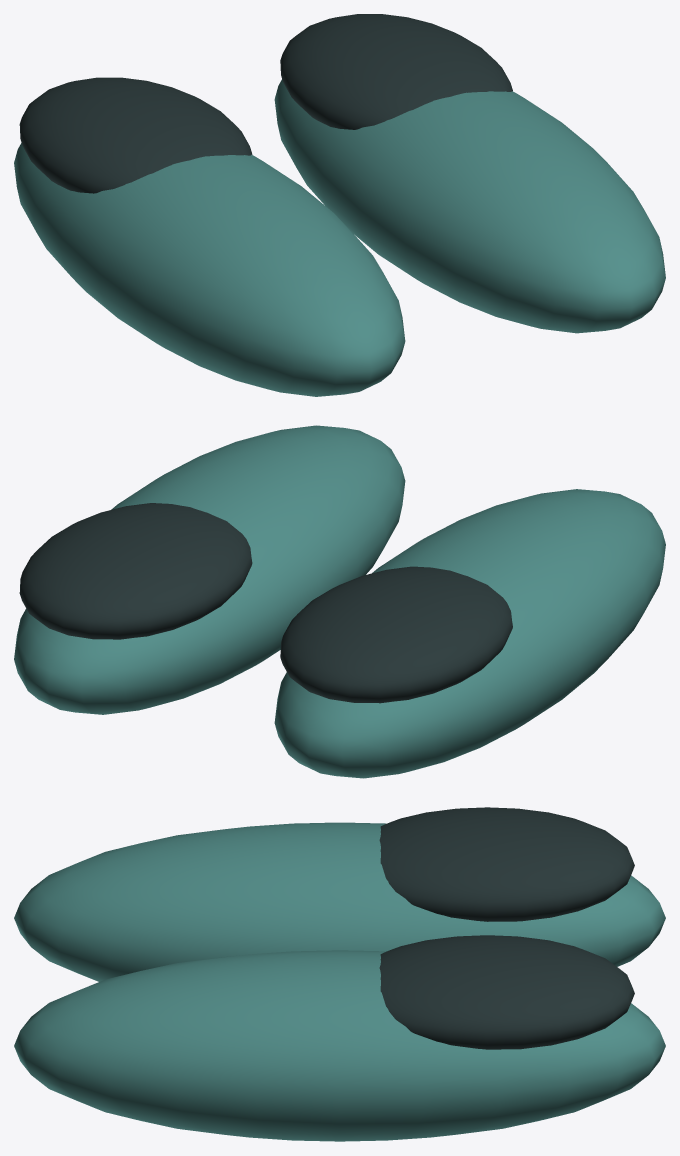
File: wp-paire-de-chaussons.glb
3 renders of one model, top to bottom at view 1: azimuth 30°, elevation 25°; view 2: azimuth 150°, elevation 25°; view 3: azimuth 270°, elevation 25°, orthographic.
Parts seen in each view (by area): view 1: wp-paire-de-chaussons; view 2: wp-paire-de-chaussons; view 3: wp-paire-de-chaussons.
Boxes of the visible parts, bbox=[...] form: wp-paire-de-chaussons: bbox=[14, 14, 665, 396]; wp-paire-de-chaussons: bbox=[14, 425, 665, 778]; wp-paire-de-chaussons: bbox=[14, 807, 665, 1141].
Size of the model in its own units: 0.24 by 0.08 by 0.28.
